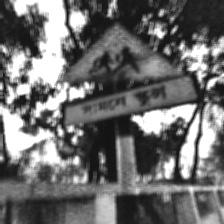School-in-front: (55, 19, 198, 133)
